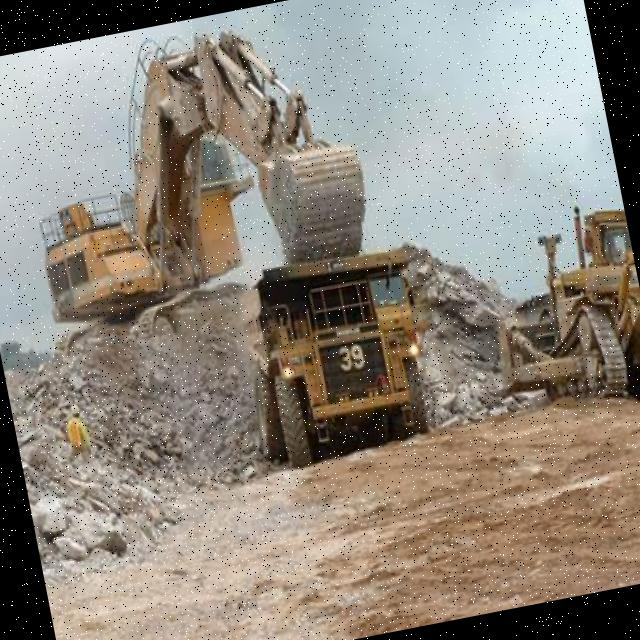Bulldozer: (468, 170, 640, 431)
Dump Truck: (237, 237, 453, 477)
Excavator: (4, 0, 421, 382)
